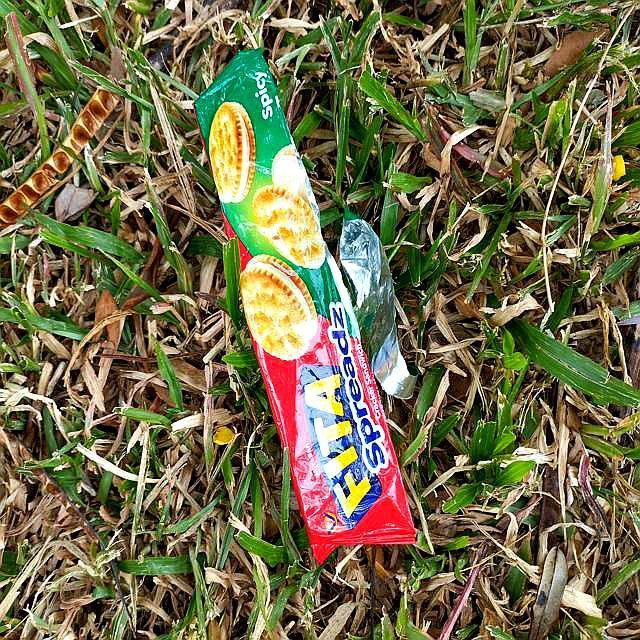Non-biodegradable: (193, 47, 420, 566)
